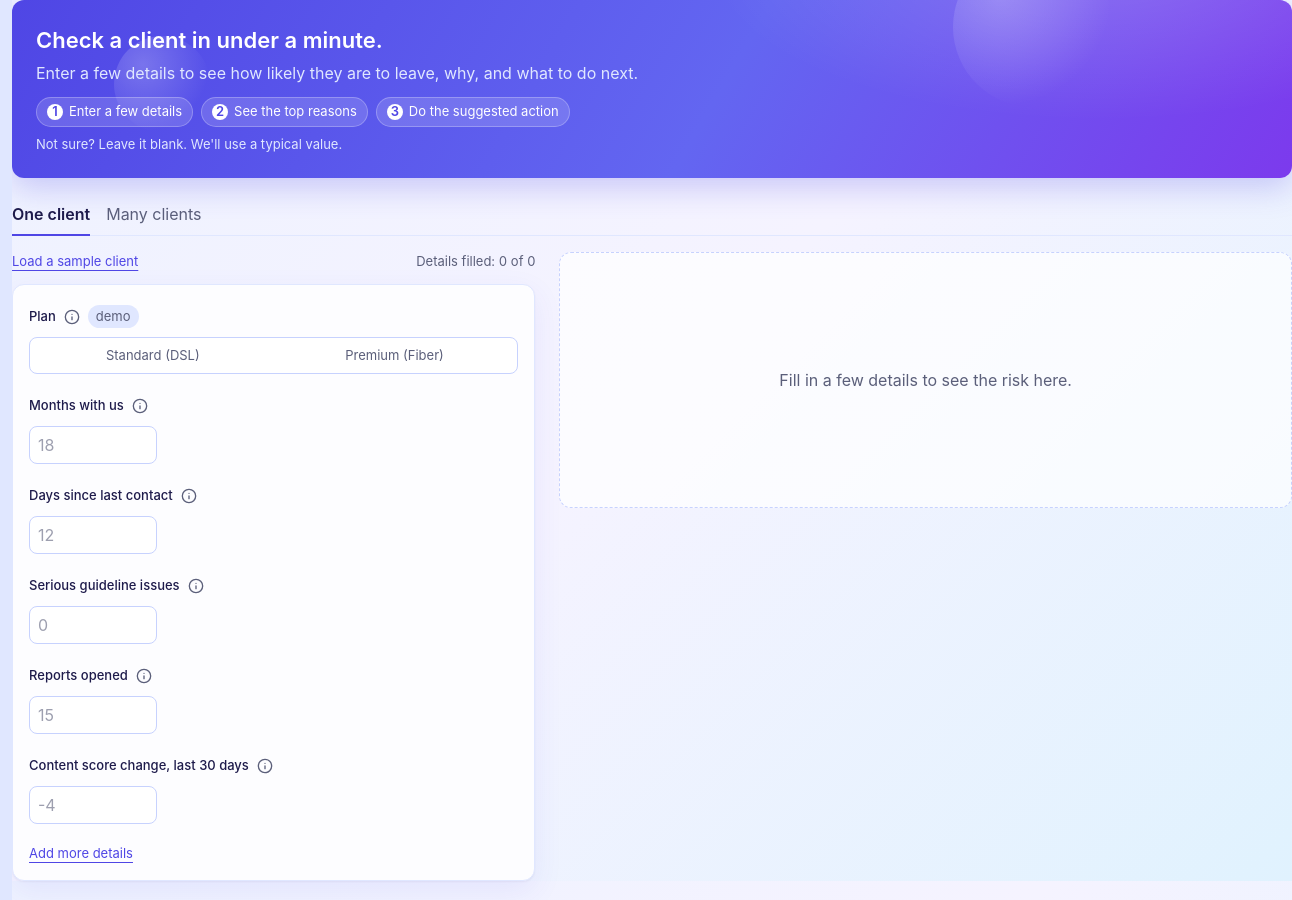
Test: Demo pill and data_origin notes › shows the simulated demo note in a field tooltip
The image size is (1292, 900).
Expected: the radio button labelled "Standard (DSL)" is shown, [32,340,274,371]
What coordinates should you click on to do the following:
click the button named "About Serious guideline issues"
I would click on:
 (196, 586)
Its box is [180,570,212,602].
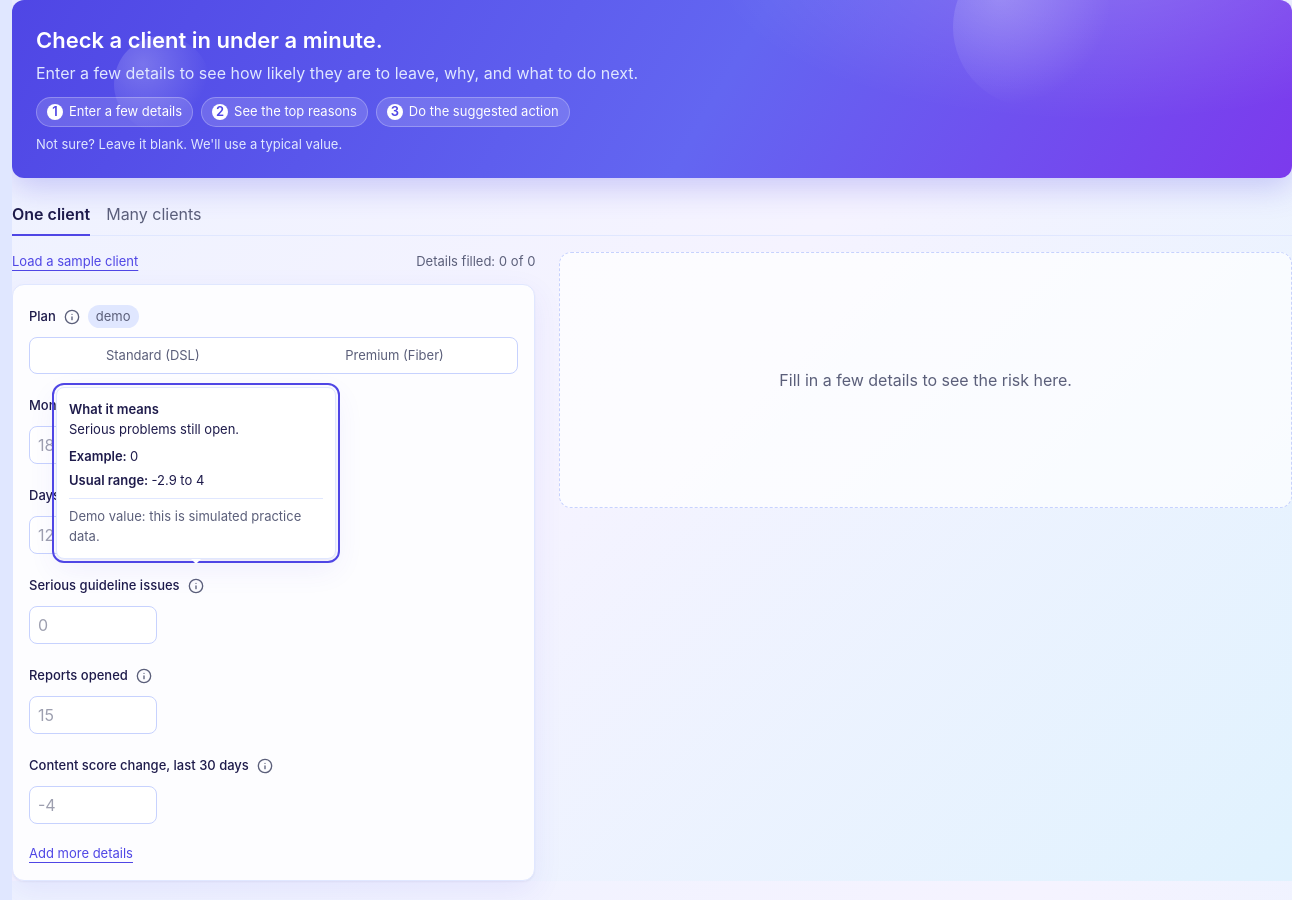
Result: the text "Demo value: this is simulated practice data." is shown at [69,498,323,546]
